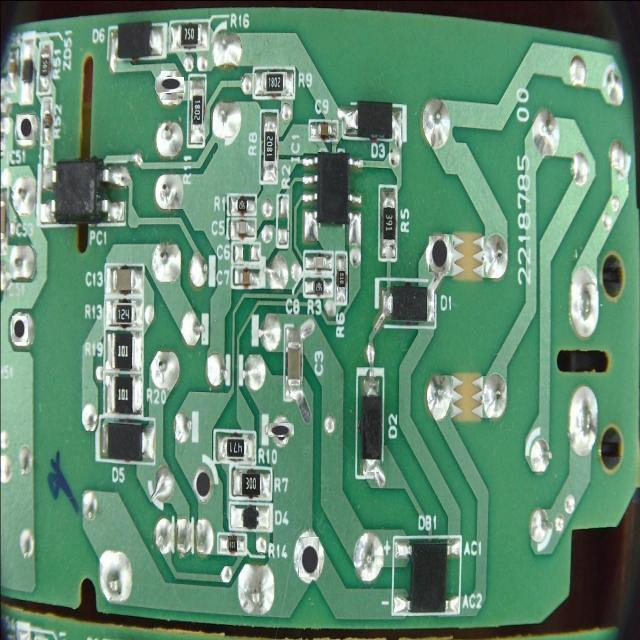damged: (298, 538, 319, 578), (429, 236, 449, 272), (194, 469, 212, 502), (158, 74, 181, 97), (16, 114, 34, 140), (271, 420, 291, 441), (12, 316, 28, 342)
